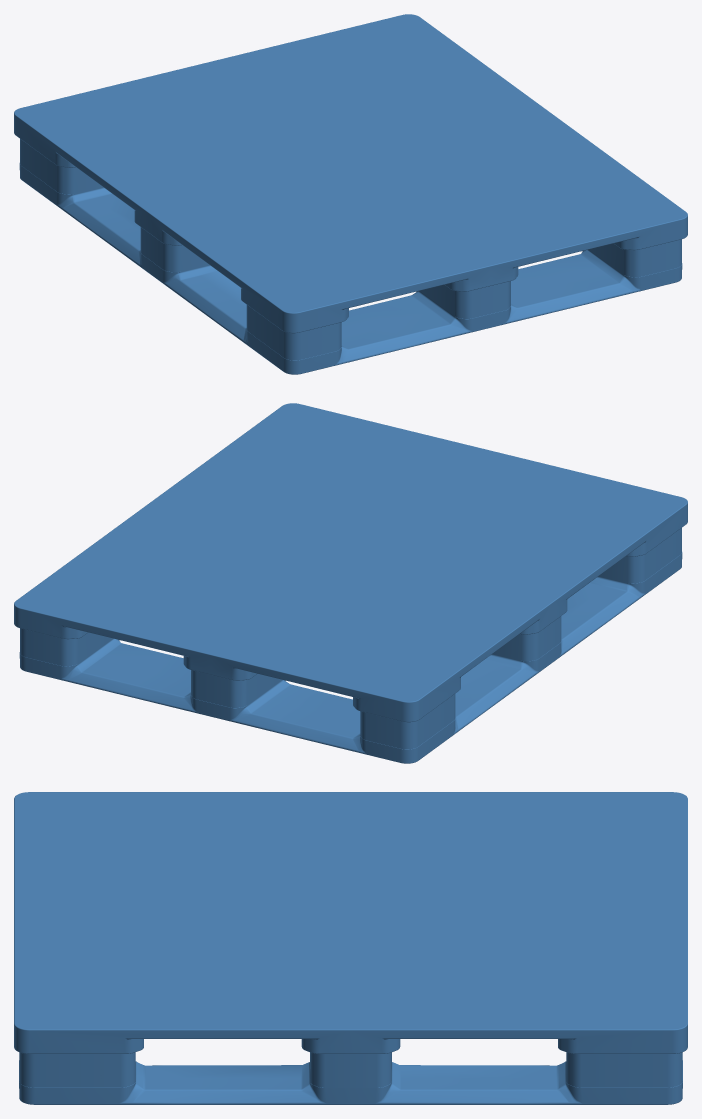
The model's file is pallet_rackable_solid_top_blue_a02.glb.
3 renders of one model, top to bottom at view 1: azimuth 30°, elevation 25°; view 2: azimuth 150°, elevation 25°; view 3: azimuth 270°, elevation 25°, orthographic. The views are drawn at different scales.
Size of the model in its own units: 1.01 by 0.1535 by 1.21.
